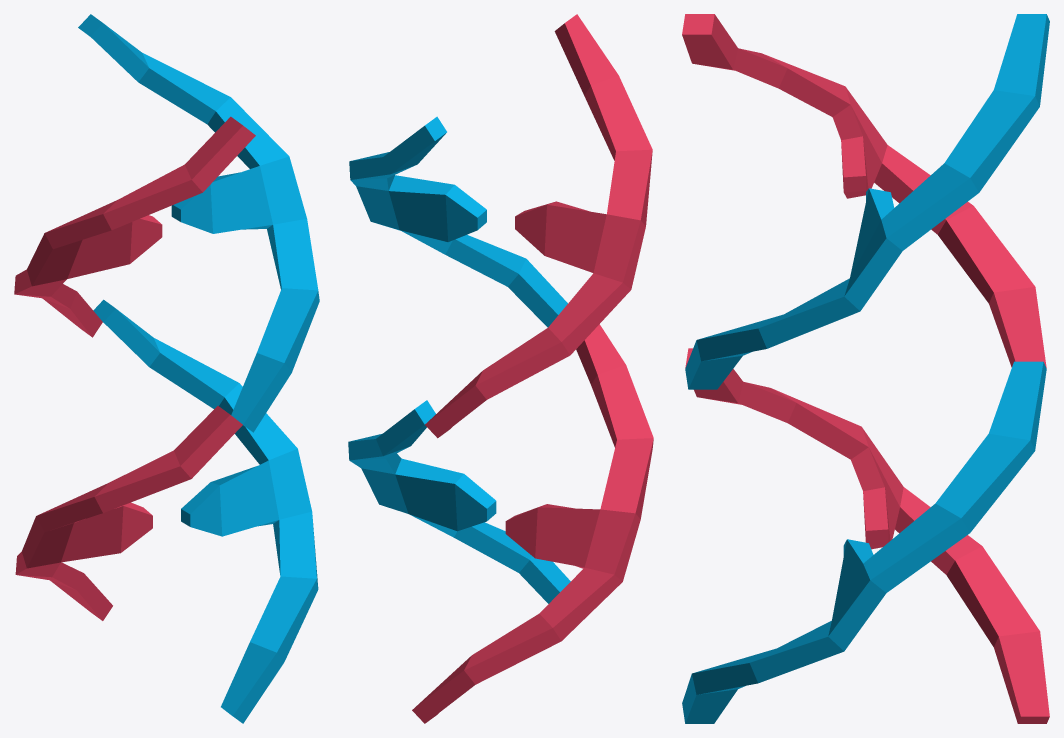
Rendered from 1791905610551-adn.glb.
3 renders of one model, left to right at view 1: azimuth 30°, elevation 25°; view 2: azimuth 150°, elevation 25°; view 3: azimuth 270°, elevation 25°, orthographic. The views are drawn at different scales.
Parts seen in each view (by area): view 1: Plane; view 2: Plane; view 3: Plane.
Boxes of the visible parts, x1,y1,x2,y2 form: Plane: (14, 14, 319, 723); Plane: (348, 14, 653, 723); Plane: (682, 14, 1049, 723).
Bounding box in the file's own units: 1.3 × 2.8 × 1.32.
